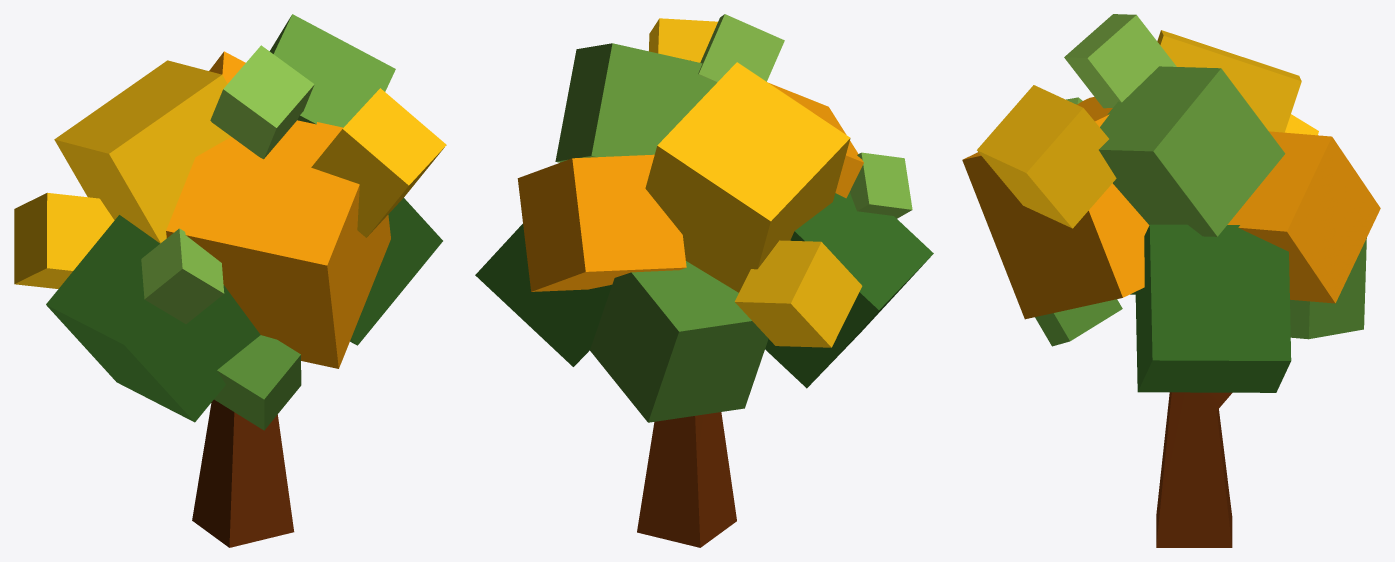
The model's file is Tree_LV3.fbx.
3 renders of one model, left to right at view 1: azimuth 30°, elevation 25°; view 2: azimuth 150°, elevation 25°; view 3: azimuth 270°, elevation 25°, orthographic. The views are drawn at different scales.
Visible parts, largest first — view 1: Tree_LV3; view 2: Tree_LV3; view 3: Tree_LV3.
Part boxes in pixels (x1,y1,x2,y2): Tree_LV3: [14, 14, 446, 547]; Tree_LV3: [475, 14, 933, 547]; Tree_LV3: [962, 14, 1380, 547].
Bounding box in the file's own units: 341 × 437 × 324.
